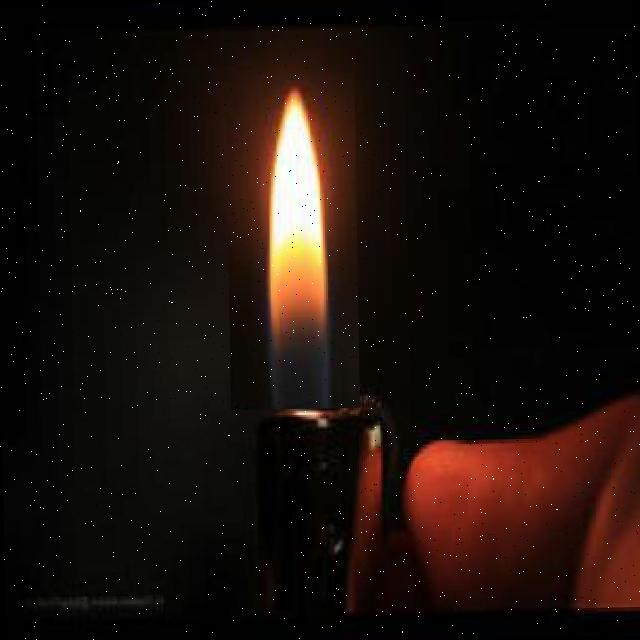fire: (224, 72, 360, 410)
